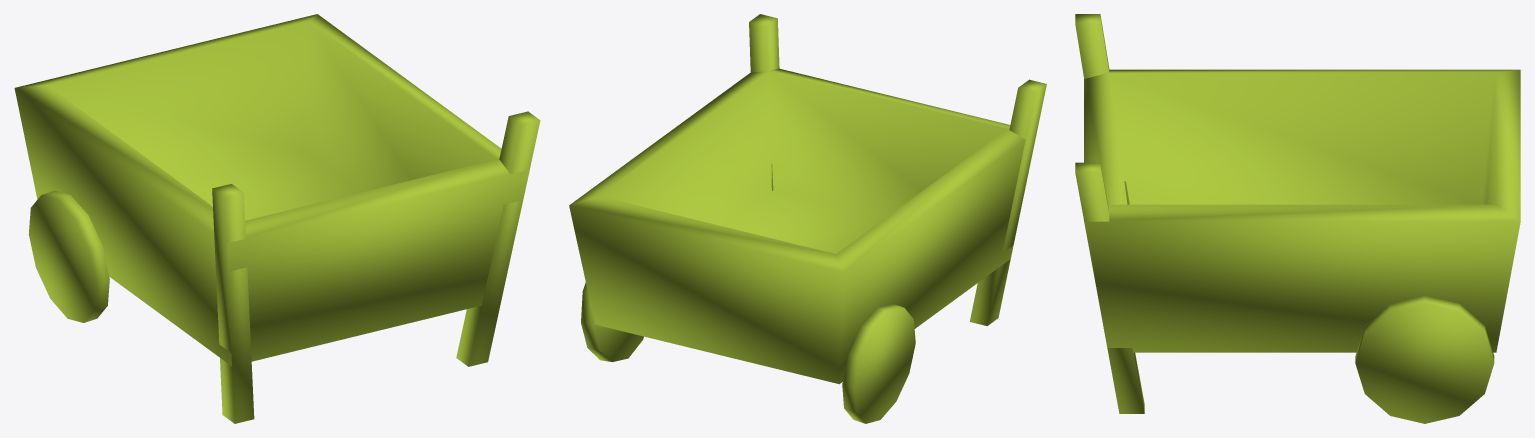
File: cart.obj
3 renders of one model, left to right at view 1: azimuth 30°, elevation 25°; view 2: azimuth 150°, elevation 25°; view 3: azimuth 270°, elevation 25°, orthographic. The views are drawn at different scales.
Visible parts, largest first — view 1: Cart; view 2: Cart; view 3: Cart.
Part boxes in pixels (x1,y1,x2,y2): Cart: [14, 14, 540, 423]; Cart: [569, 14, 1046, 423]; Cart: [1075, 14, 1520, 423].
Size of the model in its own units: 57.49 by 43.5 by 68.29.
